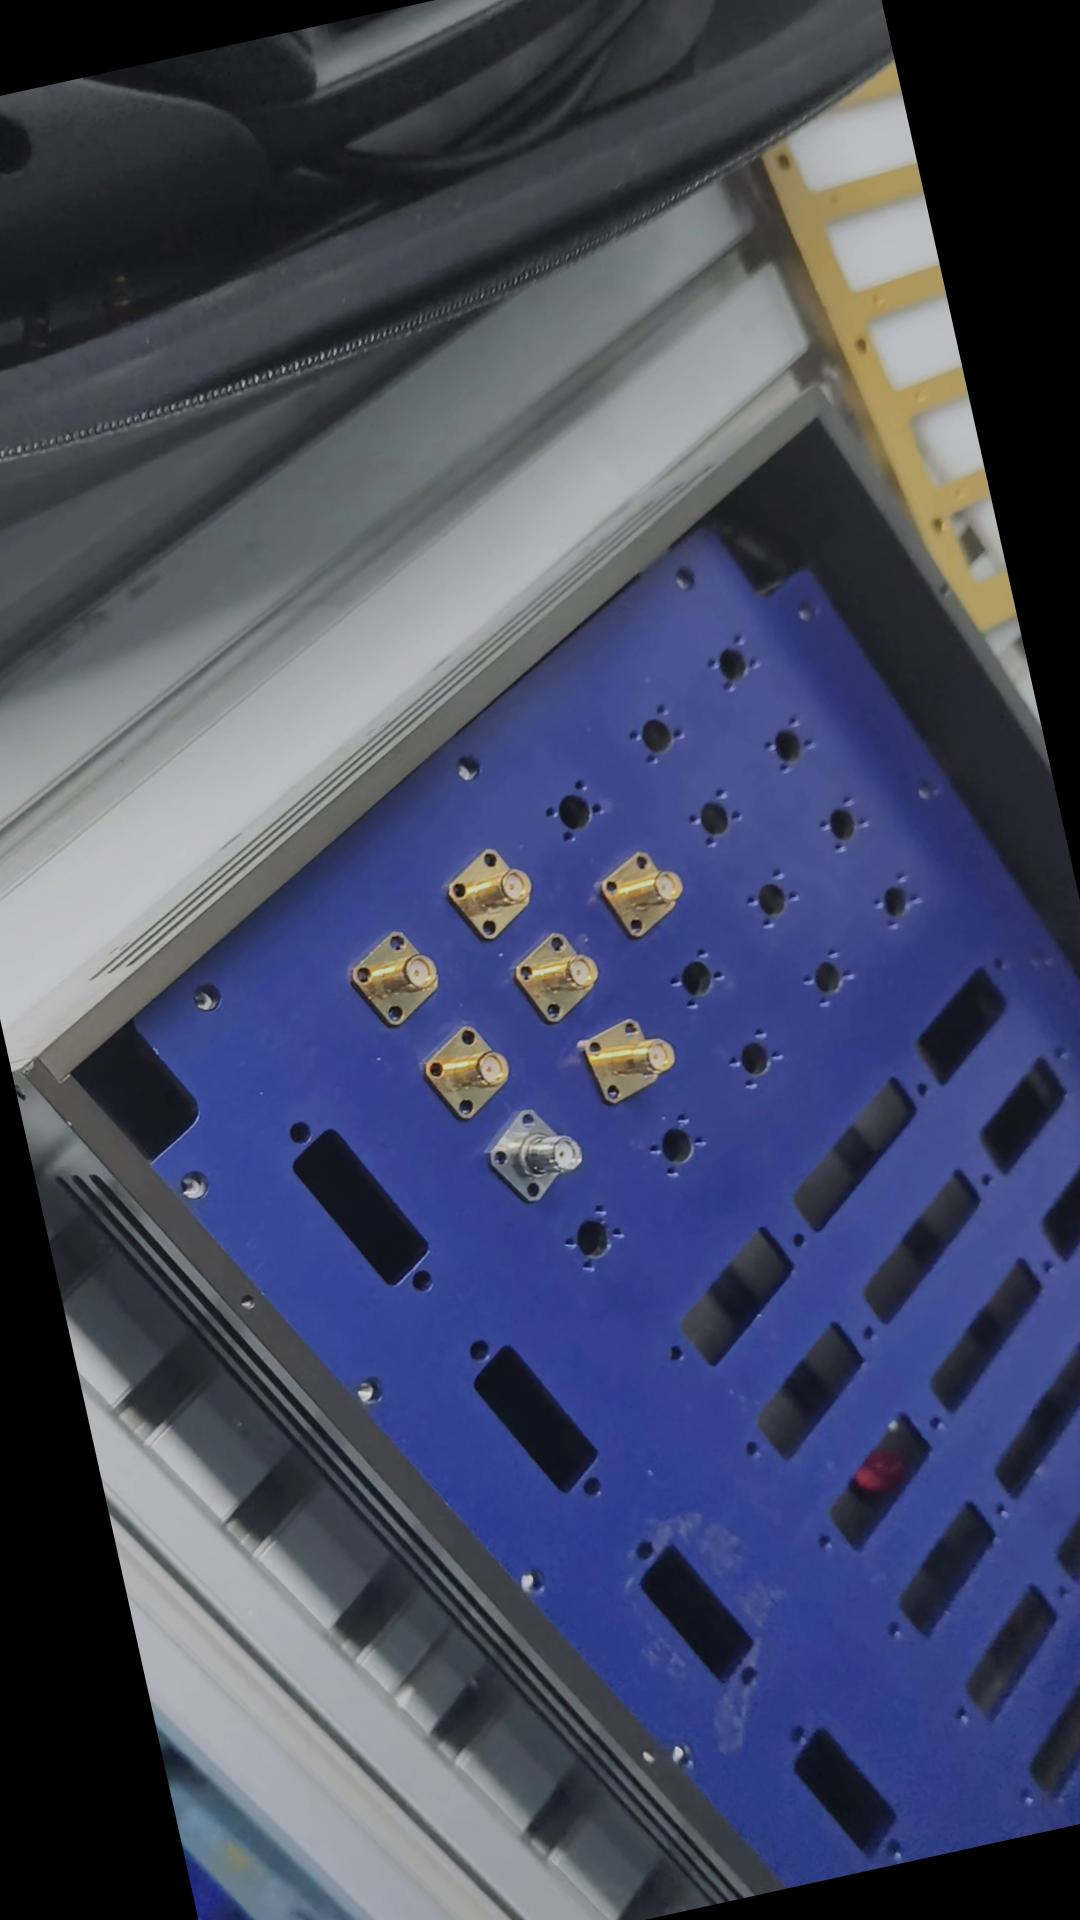SMA: (472, 1092, 593, 1213), (332, 914, 450, 1035), (411, 1009, 530, 1127), (504, 923, 616, 1033), (592, 841, 696, 948), (442, 837, 547, 942), (578, 1013, 678, 1106)
